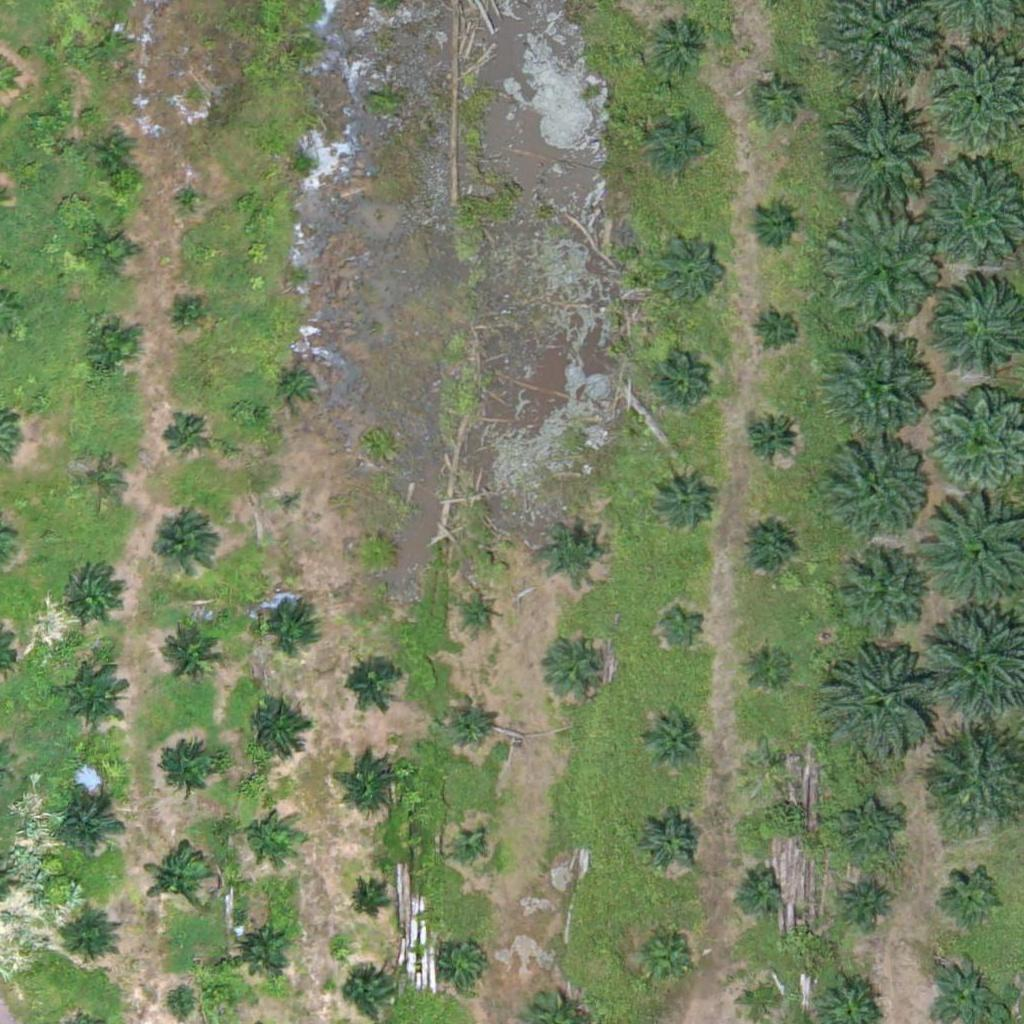Kelapa_Sawit: (818, 641, 943, 767), (827, 217, 940, 331), (825, 93, 938, 206), (820, 336, 932, 450), (826, 434, 926, 535), (836, 551, 924, 639), (151, 741, 226, 817), (54, 660, 129, 736), (147, 513, 222, 589), (155, 615, 230, 691), (143, 843, 218, 919), (52, 792, 127, 867), (654, 230, 729, 305), (552, 634, 615, 697), (541, 518, 604, 581), (256, 590, 319, 653), (60, 910, 123, 973), (232, 915, 295, 978), (650, 357, 713, 420), (639, 706, 702, 769), (639, 811, 702, 874), (632, 925, 695, 988), (740, 407, 803, 470), (342, 752, 404, 815), (341, 652, 403, 715), (245, 698, 308, 760), (62, 564, 124, 627), (79, 319, 141, 382), (650, 17, 712, 80), (649, 114, 711, 177), (651, 468, 713, 531), (839, 798, 901, 861), (943, 867, 1005, 930), (737, 519, 799, 582), (78, 220, 140, 283), (752, 74, 802, 125), (845, 876, 895, 927), (743, 636, 793, 687), (742, 733, 792, 784), (732, 862, 782, 913), (658, 598, 708, 649), (748, 198, 798, 249), (160, 412, 210, 463), (241, 807, 291, 857), (342, 970, 392, 1020), (442, 937, 492, 987), (444, 696, 494, 746), (75, 457, 125, 507), (752, 306, 802, 356), (274, 360, 324, 410), (461, 594, 499, 632), (451, 832, 489, 870), (358, 534, 396, 572), (172, 182, 210, 220), (96, 134, 134, 172), (92, 25, 130, 63), (346, 883, 383, 921), (174, 298, 199, 324), (278, 488, 303, 513)
